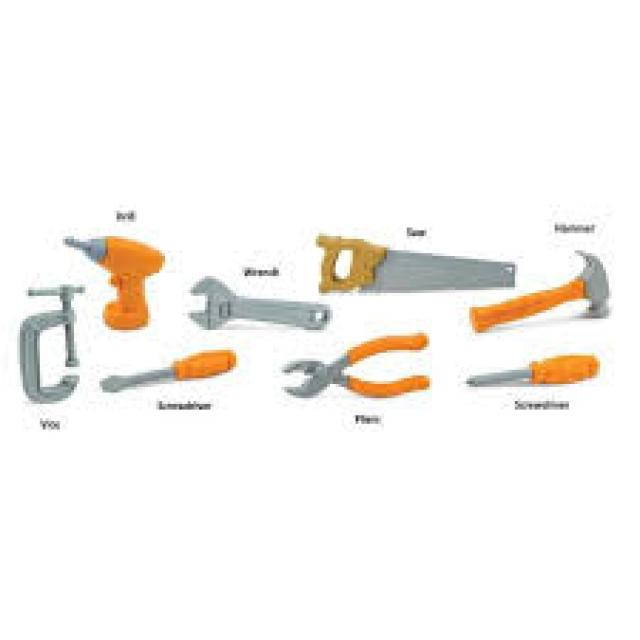wrench: (183, 270, 349, 352)
